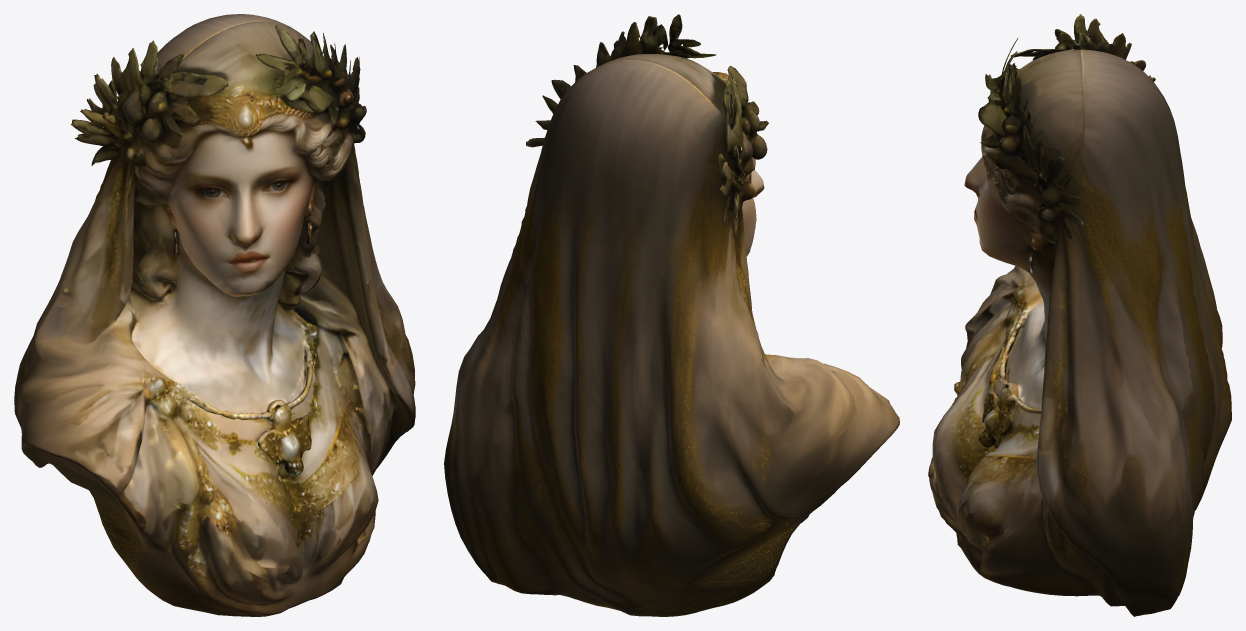
Rendered from marble_optimized.glb.
3 views of the same model, side by side, from view 1: azimuth 30°, elevation 25°; view 2: azimuth 150°, elevation 25°; view 3: azimuth 270°, elevation 25° (orthographic). The views are drawn at different scales.
Parts seen in each view (by area): view 1: model; view 2: model; view 3: model.
Part boxes in pixels (x1,y1,x2,y2): model: [14, 14, 415, 616]; model: [444, 14, 899, 616]; model: [928, 14, 1231, 616].
Size of the model in its own units: 1.44 by 1.87 by 0.9882.
Materials: 1 (1 with a texture image).
